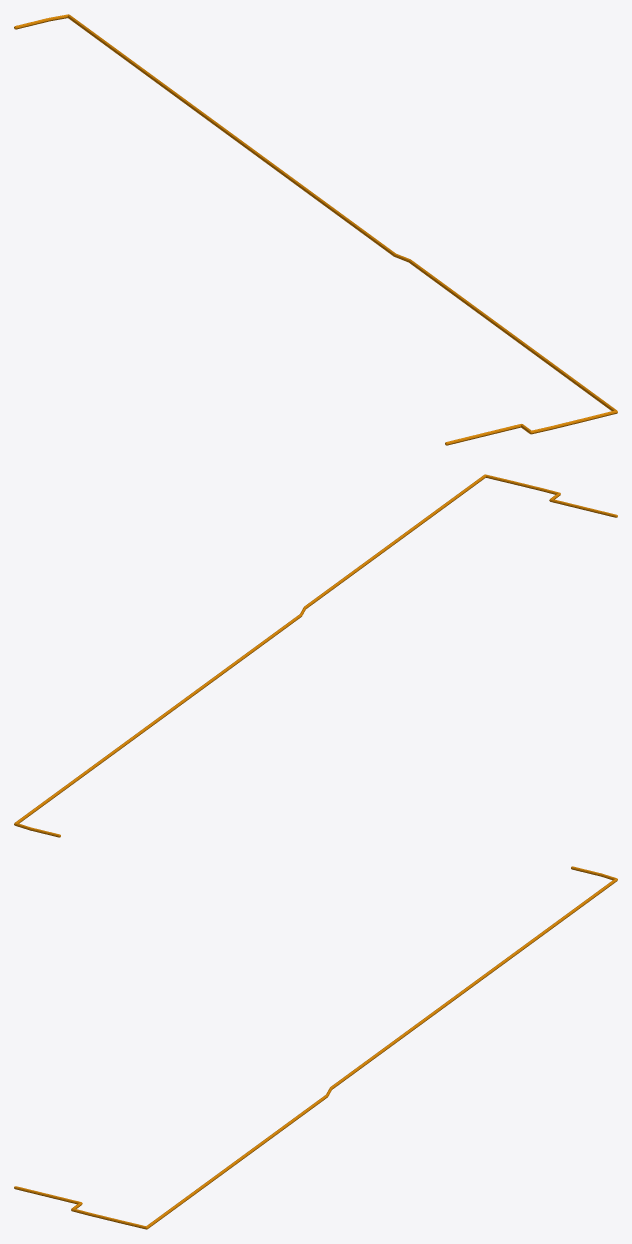
3 renders of one model, top to bottom at view 1: azimuth 30°, elevation 25°; view 2: azimuth 150°, elevation 25°; view 3: azimuth 330°, elevation 25°, orthographic. The views are drawn at different scales.
Size of the model in its own units: 980 by 20 by 5686.
